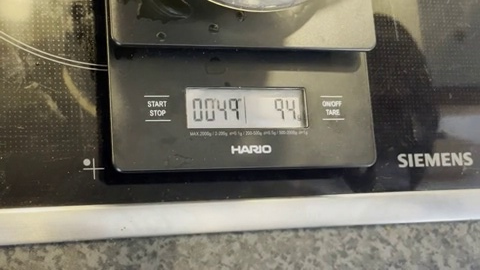display: (186, 87, 305, 128)
